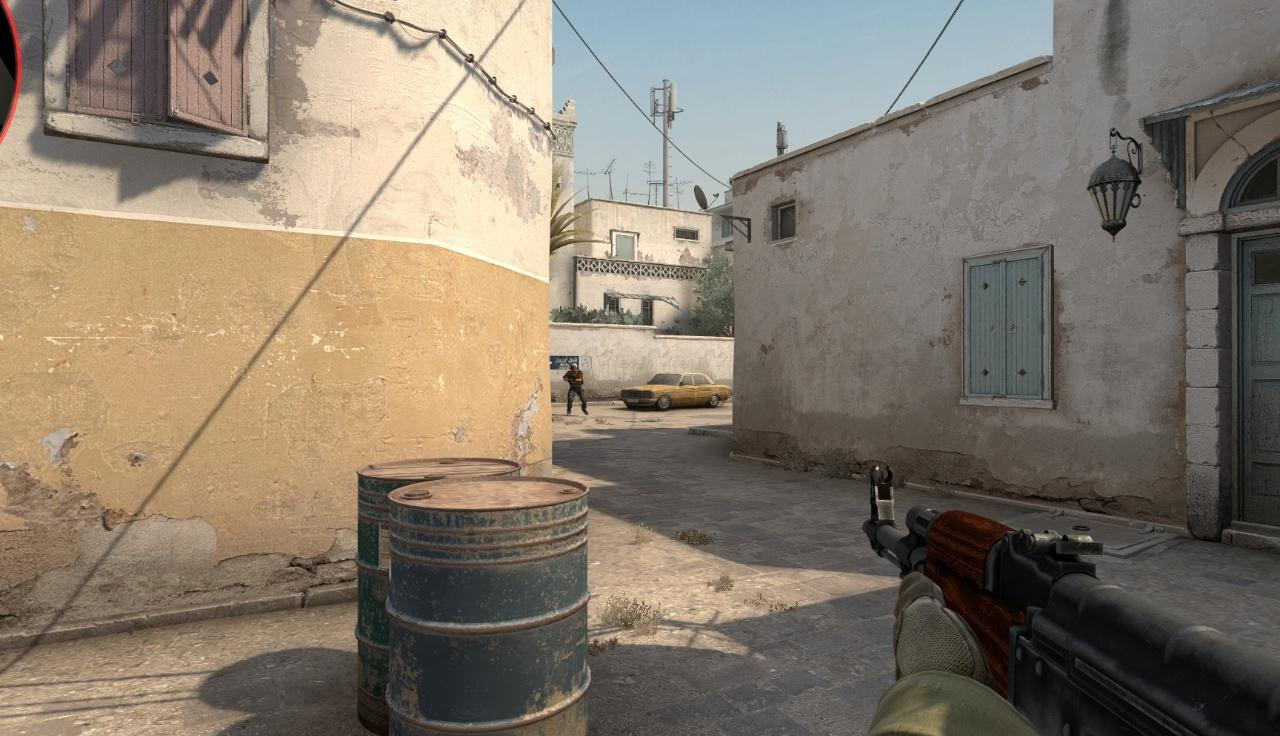rifle: (867, 463, 1280, 736)
tt: (563, 364, 587, 415)
tthead: (570, 364, 578, 374)
